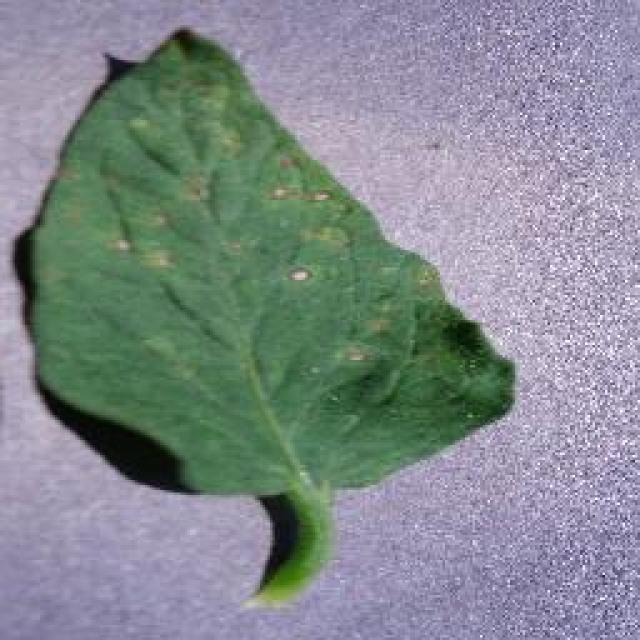Tomato Septoria spot leaf: (34, 32, 518, 496)
